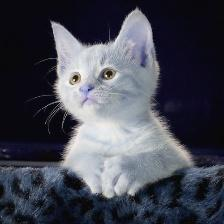kedo: (52, 10, 189, 195)
